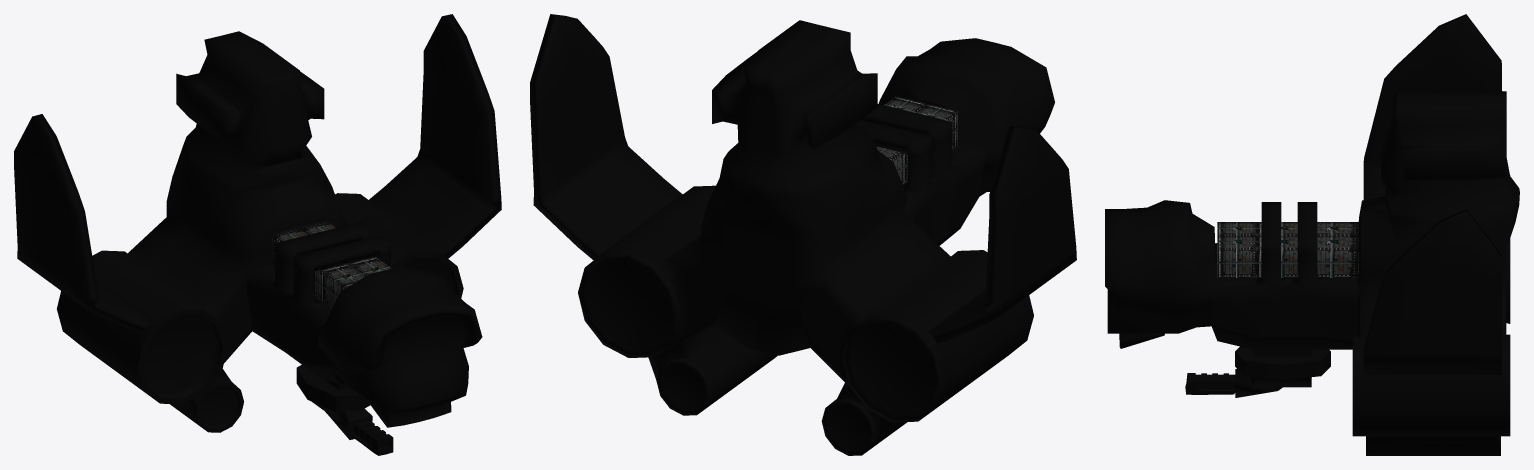
File: Spaceship01.fbx
The picture shows the model from 3 angles, left to right: view 1: azimuth 30°, elevation 25°; view 2: azimuth 150°, elevation 25°; view 3: azimuth 270°, elevation 25°; orthographic projection. The views are drawn at different scales.
Visible parts, largest first — view 1: polySurface10, CargoCrates; view 2: polySurface10, CargoCrates; view 3: polySurface10, CargoCrates.
Part boxes in pixels (x1,y1,x2,y2): polySurface10: (14, 14, 501, 455); CargoCrates: (272, 221, 391, 308); polySurface10: (530, 14, 1076, 455); CargoCrates: (876, 96, 957, 184); polySurface10: (1105, 14, 1519, 455); CargoCrates: (1217, 222, 1358, 277).
Size of the model in its own units: 212 by 157 by 186.
